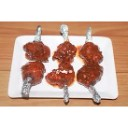chicken_lollipop: (44, 62, 76, 104), (76, 62, 108, 102), (24, 21, 52, 62), (21, 61, 47, 103), (78, 25, 105, 63), (53, 24, 76, 63)
